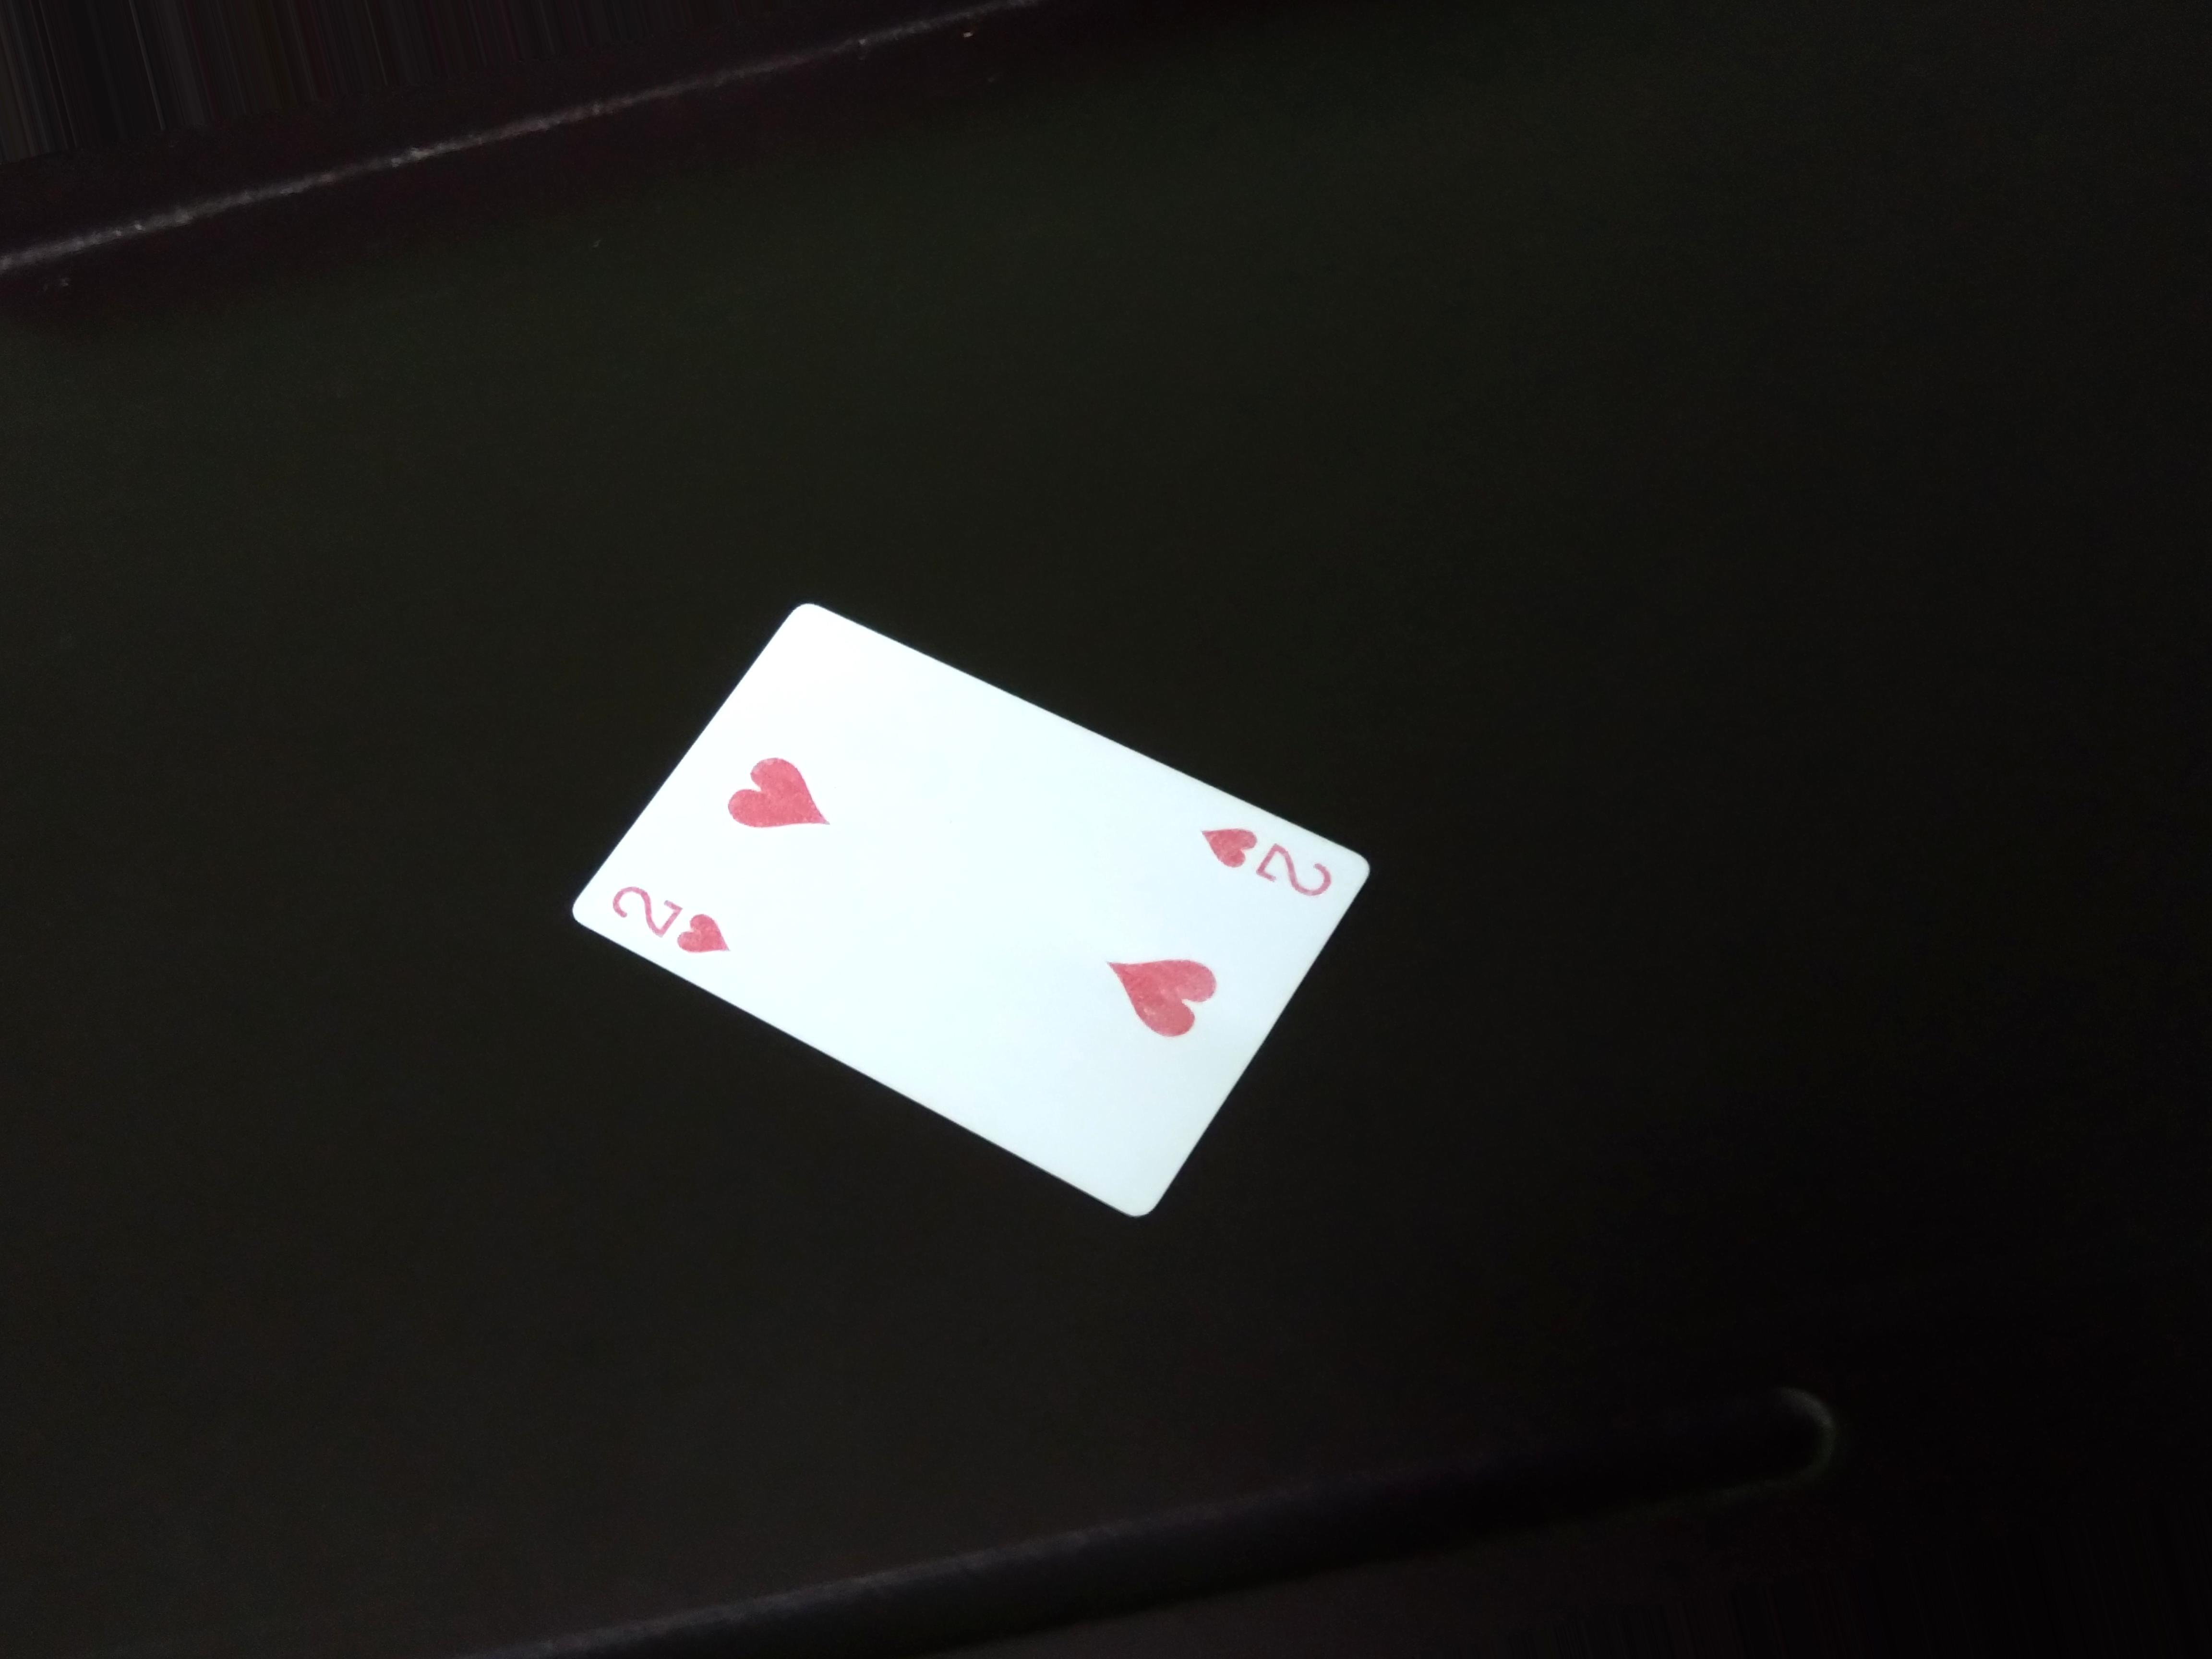2H: (585, 873, 765, 972)
